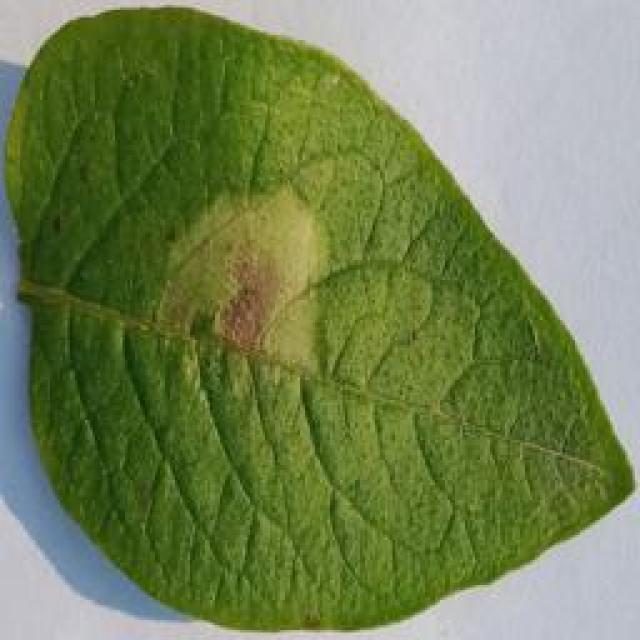Potato_Late_Blight: (14, 8, 624, 630)
